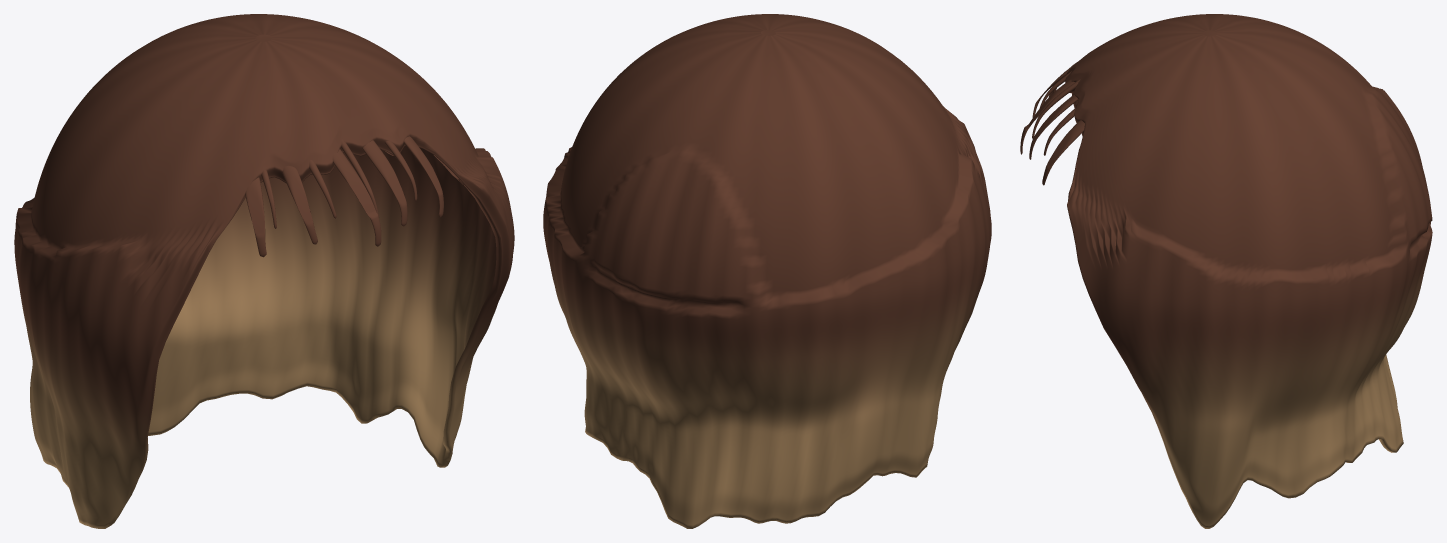
File: side-sweep-cap-ombre.glb
3 views of the same model, side by side, from view 1: azimuth 30°, elevation 25°; view 2: azimuth 150°, elevation 25°; view 3: azimuth 270°, elevation 25° (orthographic). The views are drawn at different scales.
Parts seen in each view (by area): view 1: Hair / layered lob, Fringe / arched wisp 05, Fringe / arched wisp 07, Fringe / arched wisp 01, Fringe / arched wisp 03, Fringe / arched wisp 09; view 2: Hair / layered lob; view 3: Hair / layered lob, Fringe / arched wisp 09.
Part boxes in pixels (bbox=[...]): Hair / layered lob: bbox=[14, 14, 514, 528]; Fringe / arched wisp 05: bbox=[332, 149, 381, 246]; Fringe / arched wisp 07: bbox=[362, 140, 407, 226]; Fringe / arched wisp 01: bbox=[245, 177, 266, 257]; Fringe / arched wisp 03: bbox=[282, 166, 317, 244]; Fringe / arched wisp 09: bbox=[404, 136, 443, 217]; Hair / layered lob: bbox=[543, 14, 991, 528]; Hair / layered lob: bbox=[1065, 14, 1432, 528]; Fringe / arched wisp 09: bbox=[1042, 120, 1084, 185].
Bounding box in the file's own units: 0.8388 × 0.8705 × 0.7755.
